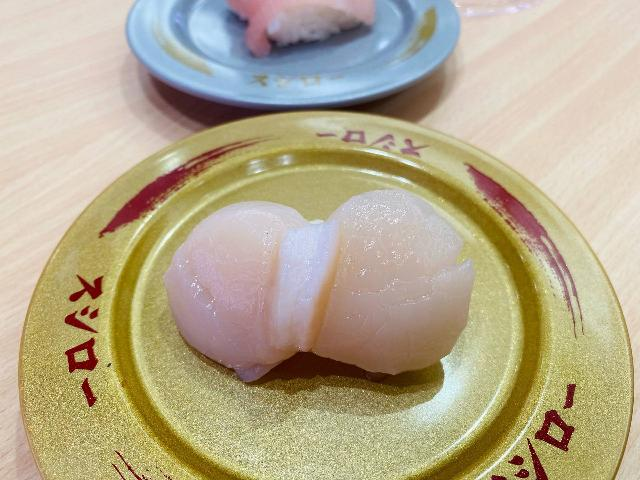jangold: (44, 124, 624, 480)
janwhite: (110, 0, 472, 98)
